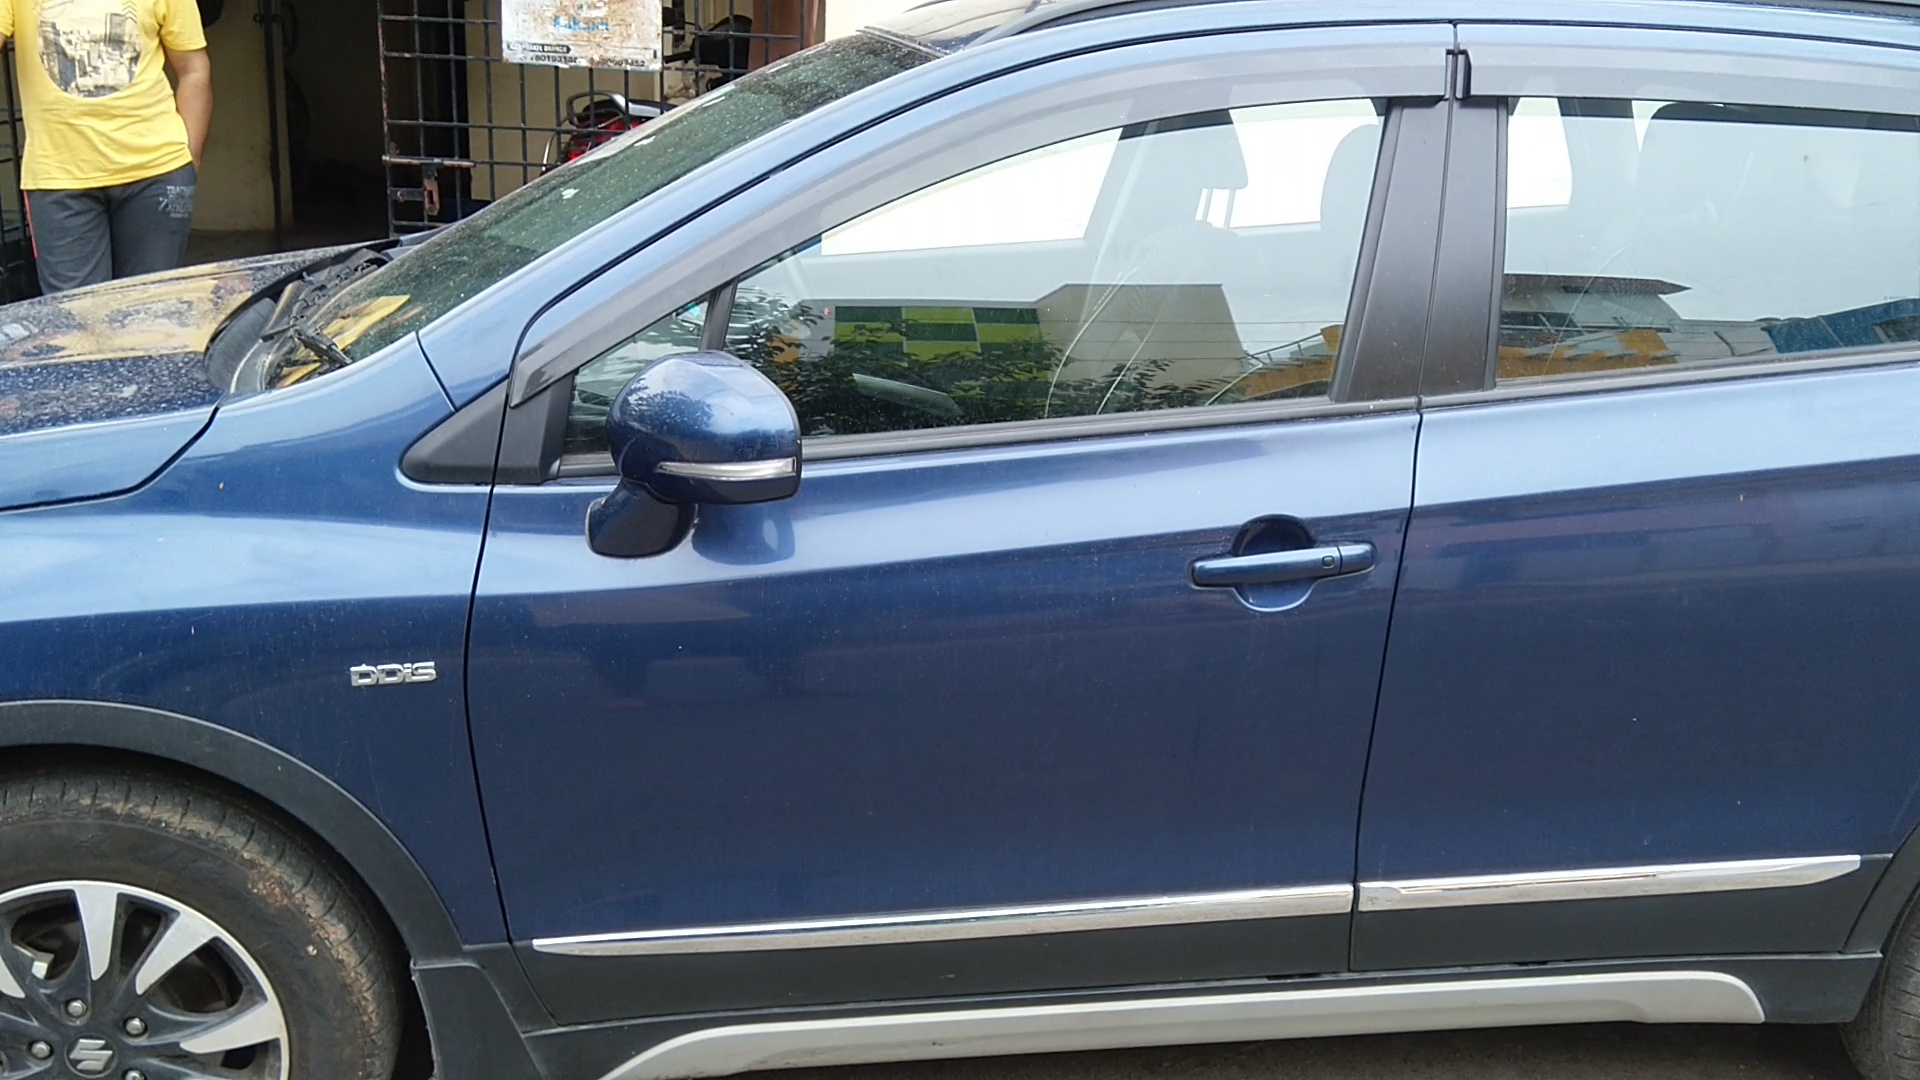ovr_mirror: (570, 345, 804, 568)
